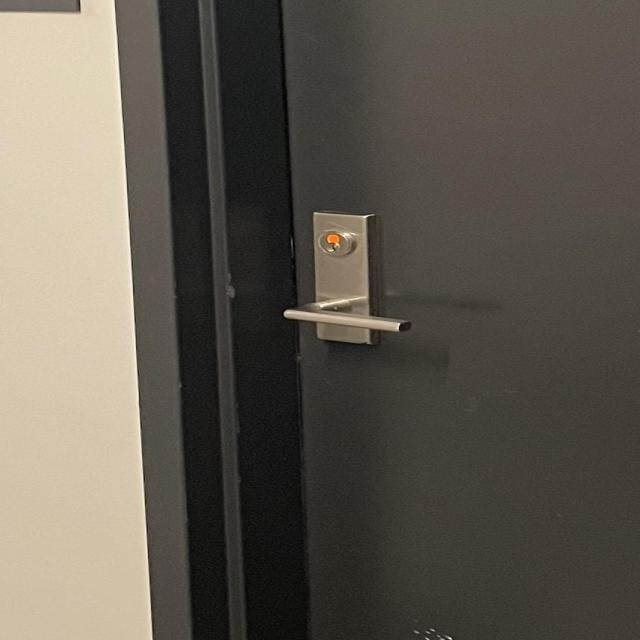door_handle: (269, 289, 434, 344)
